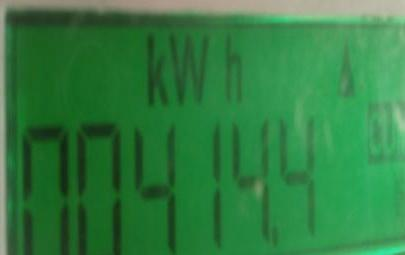.: (136, 30, 254, 109)
0: (269, 225, 286, 246)
1: (19, 125, 73, 255), (74, 126, 126, 255)
2: (210, 117, 225, 247)
5: (129, 119, 181, 255), (275, 116, 321, 242), (231, 117, 274, 246)
